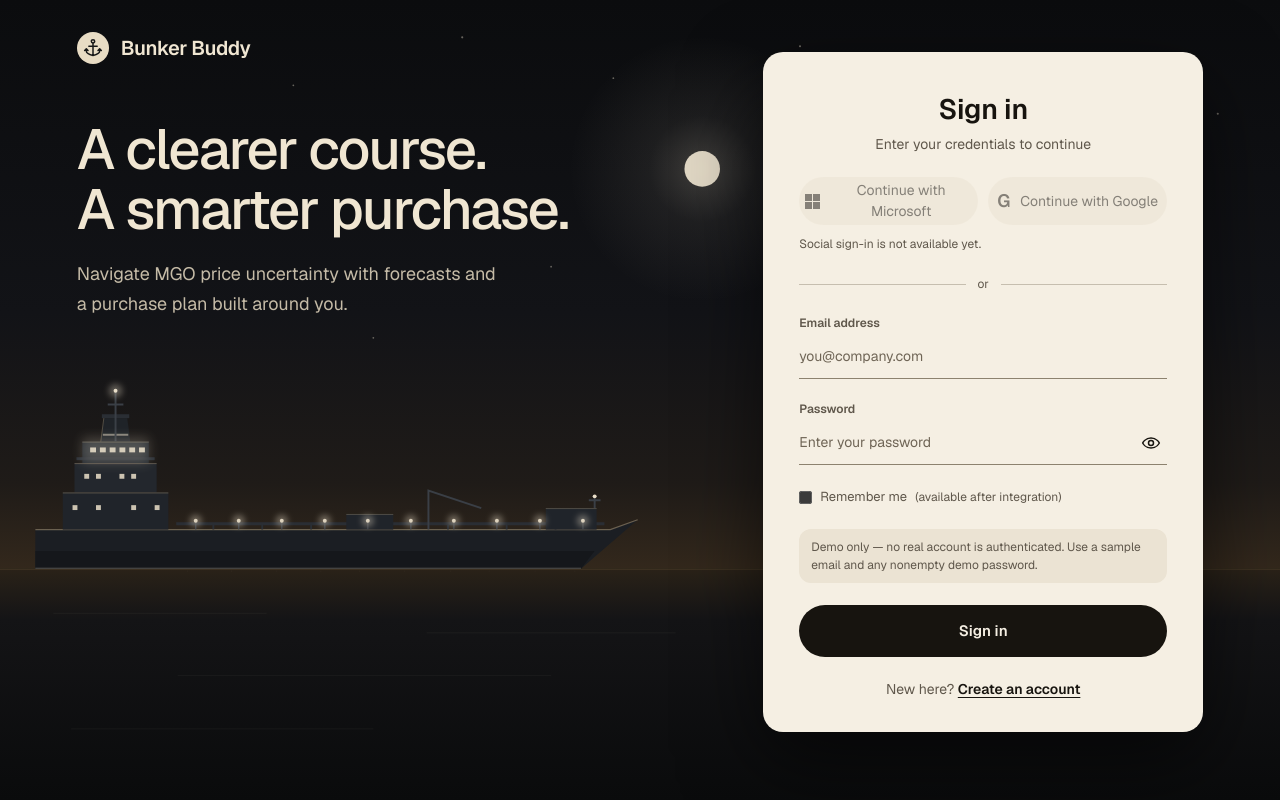
Test: shared app and auth journeys › validates sign-in fields and toggles the password without submitting
Click the button "Sign in" at (983, 631), box top-left (799, 605), bottom-right (1167, 657)
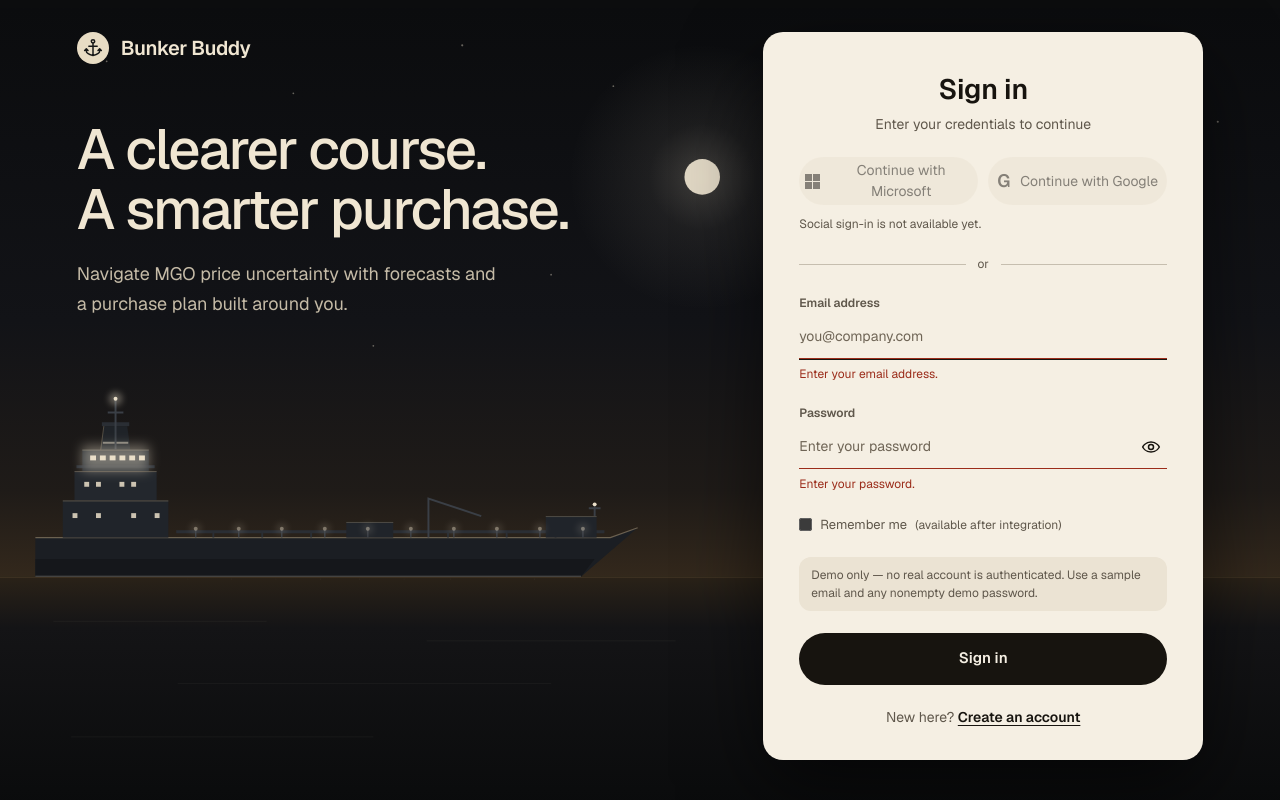
Expected: the text "Enter your email address." is shown, top-left (799, 366), bottom-right (938, 382)
Expected: the text "Enter your password." is shown, top-left (799, 476), bottom-right (915, 492)
Type "invalid" into the field labelled "Email address" at (983, 337), box top-left (799, 315), bottom-right (1167, 359)
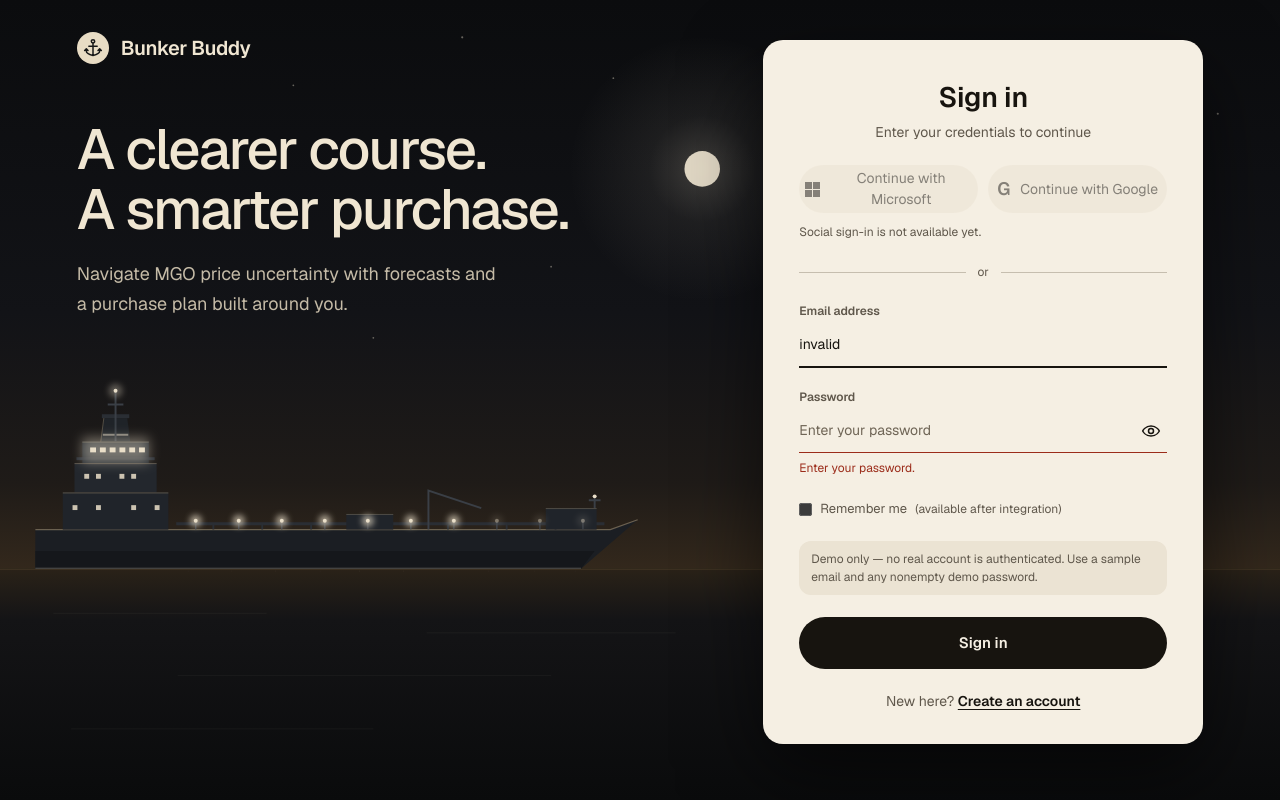
Type "secret" into the password field labelled "Password" at (983, 431), box top-left (799, 409), bottom-right (1167, 453)
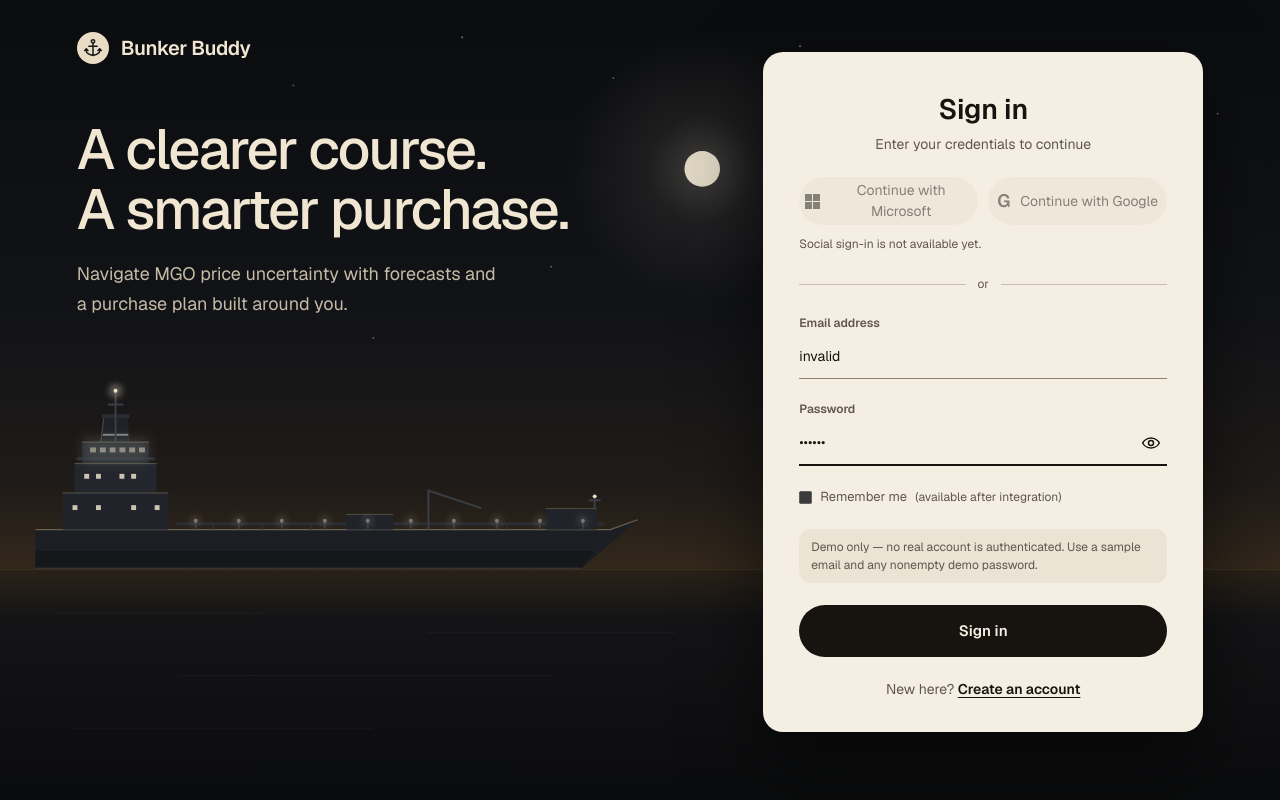
Click the button named "Show password" at (1151, 443), box top-left (1129, 421), bottom-right (1173, 465)
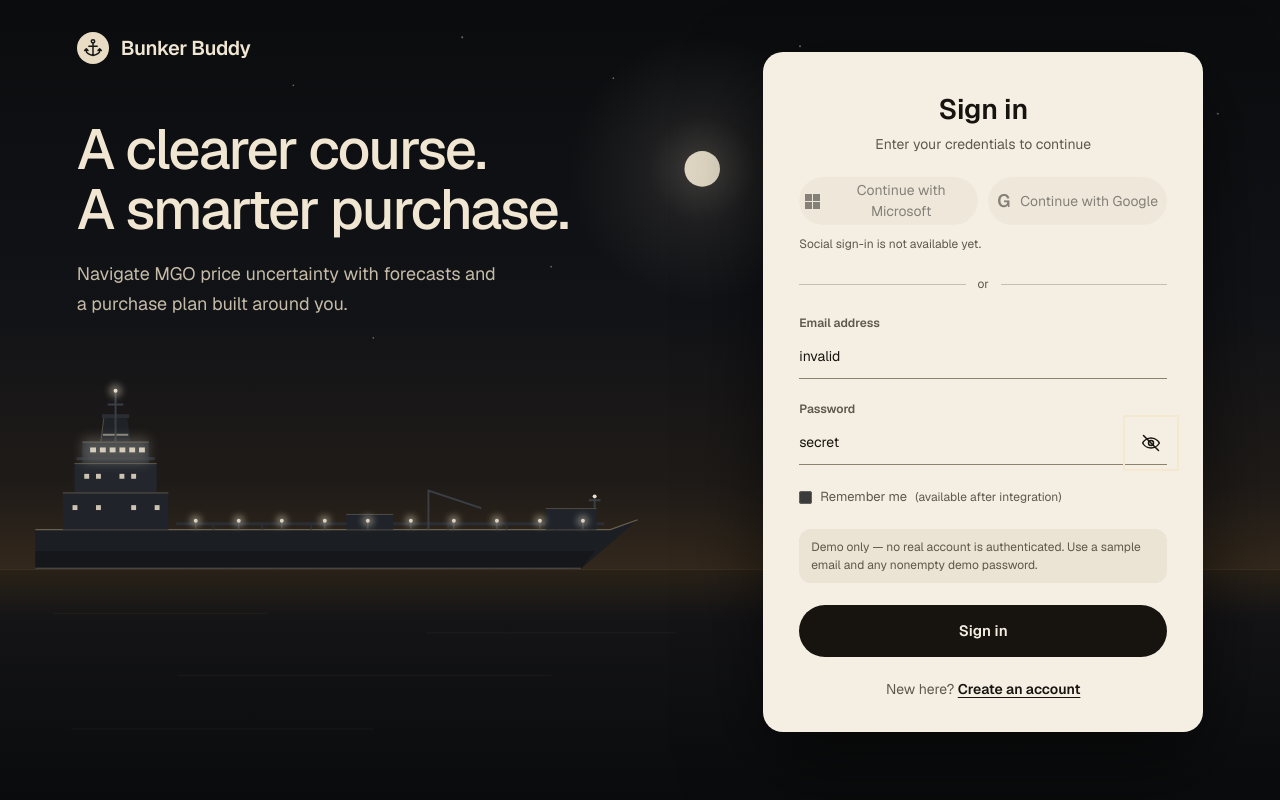
Expected: the field labelled "Password" shows its text, top-left (799, 421), bottom-right (1167, 465)
Click the button named "Hide password" at (1151, 443), box top-left (1129, 421), bottom-right (1173, 465)
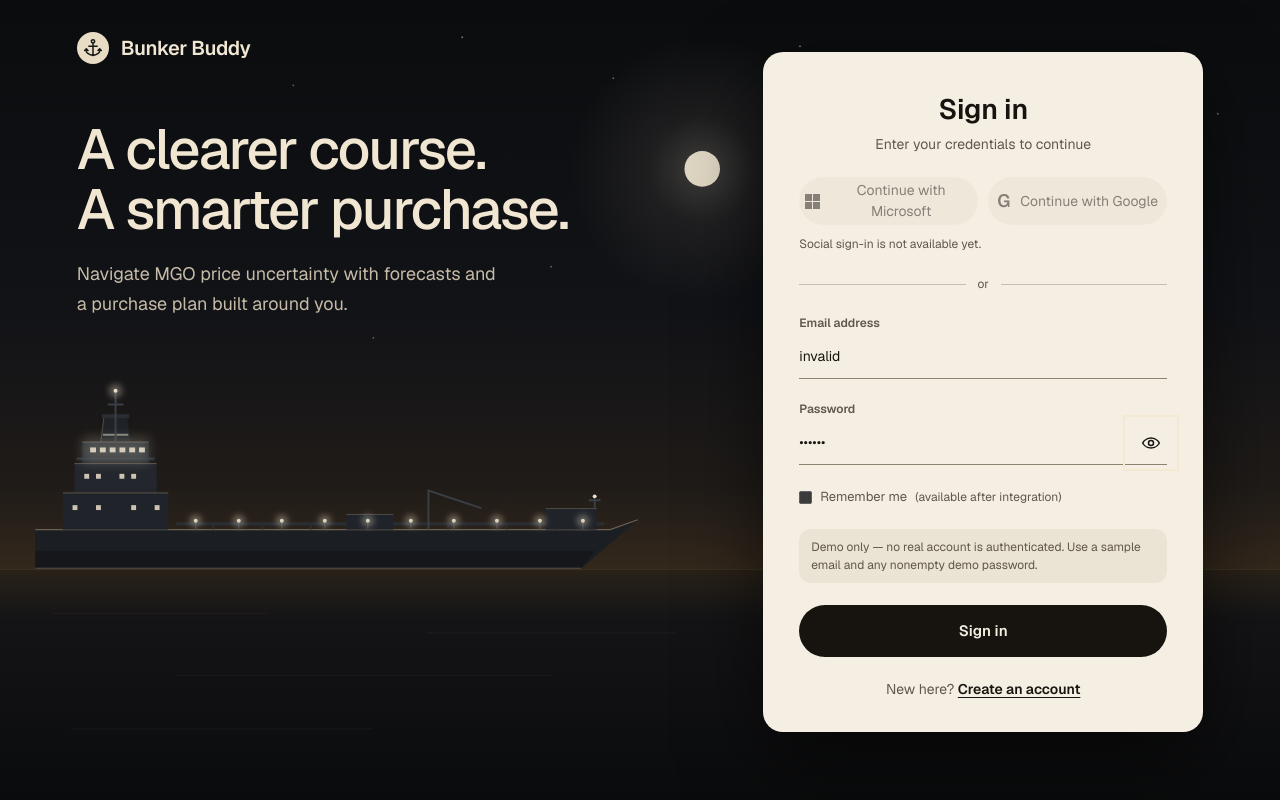
Click the button "Sign in" at (983, 631), box top-left (799, 605), bottom-right (1167, 657)
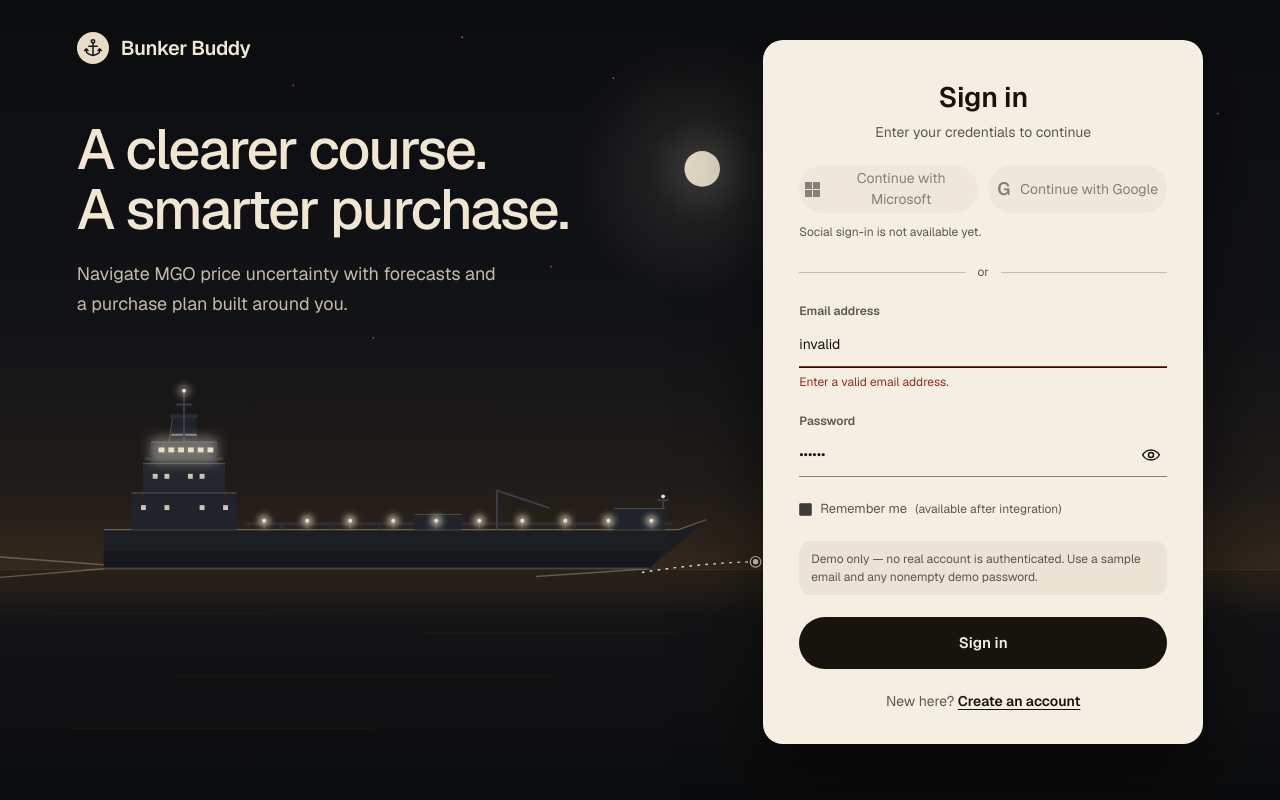
Expected: the button "G Continue with Google" is disabled, top-left (988, 165), bottom-right (1167, 213)
Expected: the text "Enter a valid email address." is shown, top-left (799, 374), bottom-right (949, 390)
